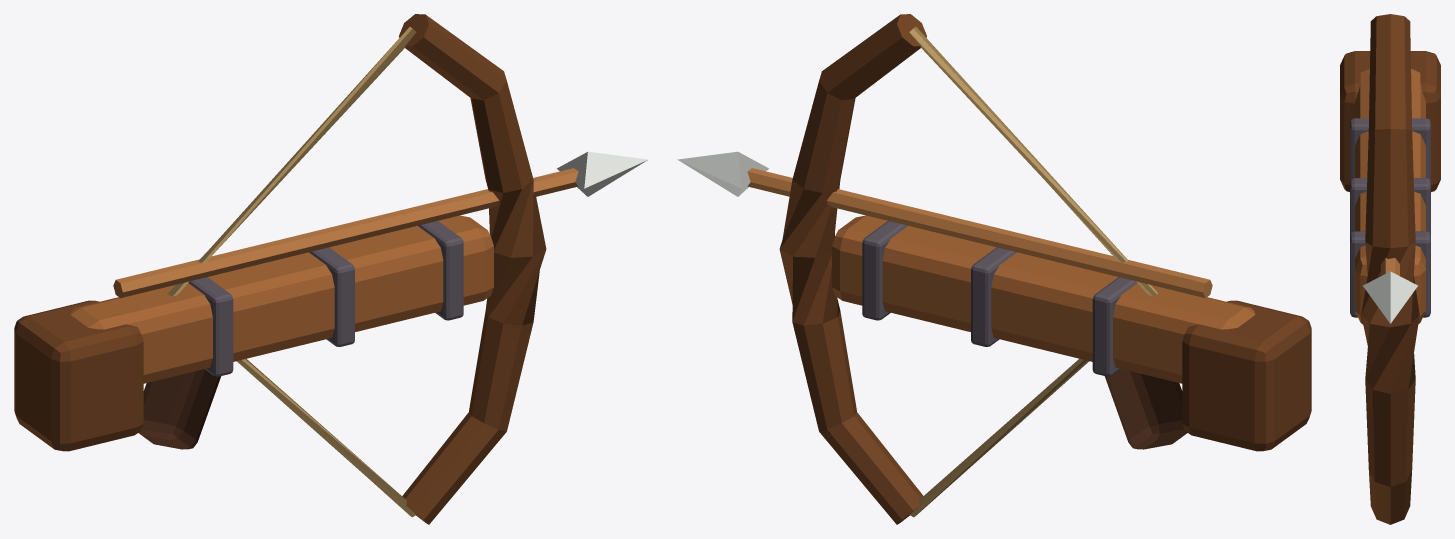
File: crossbow.glb
The picture shows the model from 3 angles, left to right: view 1: azimuth 30°, elevation 25°; view 2: azimuth 150°, elevation 25°; view 3: azimuth 270°, elevation 25°; orthographic projection.
Parts seen in each view (by area): view 1: Crossbow wooden stock, Crossbow curved bow limbs, Crossbow rear stock, Loaded crossbow bolt, Taut crossbow string, Crossbow pistol grip, Crossbow iron stock band, Crossbow iron stock band.002, Crossbow iron stock band.001, Crossbow bolt point; view 2: Crossbow wooden stock, Crossbow curved bow limbs, Crossbow rear stock, Loaded crossbow bolt, Taut crossbow string, Crossbow pistol grip, Crossbow iron stock band, Crossbow iron stock band.002, Crossbow iron stock band.001, Crossbow bolt point; view 3: Crossbow curved bow limbs, Crossbow wooden stock, Crossbow rear stock, Crossbow bolt point, Crossbow iron stock band.002, Crossbow iron stock band, Crossbow iron stock band.001, Loaded crossbow bolt.
Part boxes in pixels (x1,y1,x2,y2): Crossbow wooden stock: (70,215,493,383); Crossbow curved bow limbs: (399,14,546,524); Crossbow rear stock: (14,300,143,451); Loaded crossbow bolt: (113,168,578,298); Taut crossbow string: (168,27,416,517); Crossbow pistol grip: (138,369,221,449); Crossbow iron stock band: (188,277,233,376); Crossbow iron stock band.002: (418,221,463,320); Crossbow iron stock band.001: (309,247,354,346); Crossbow bolt point: (557,151,648,196); Crossbow wooden stock: (832,215,1255,383); Crossbow curved bow limbs: (779,14,926,524); Crossbow rear stock: (1182,300,1311,451); Loaded crossbow bolt: (747,168,1212,298); Taut crossbow string: (909,27,1157,517); Crossbow pistol grip: (1104,369,1187,449); Crossbow iron stock band: (1092,277,1137,376); Crossbow iron stock band.002: (862,221,907,320); Crossbow iron stock band.001: (971,247,1016,346); Crossbow bolt point: (677,151,768,196); Crossbow curved bow limbs: (1361,14,1419,524); Crossbow wooden stock: (1355,68,1425,324); Crossbow rear stock: (1340,51,1440,191); Crossbow bolt point: (1363,271,1417,323); Crossbow iron stock band.002: (1350,231,1430,317); Crossbow iron stock band: (1350,118,1430,181); Crossbow iron stock band.001: (1350,178,1430,235); Loaded crossbow bolt: (1381,258,1399,275).
Bounding box in the file's own units: 1.41 × 1.12 × 0.2.
